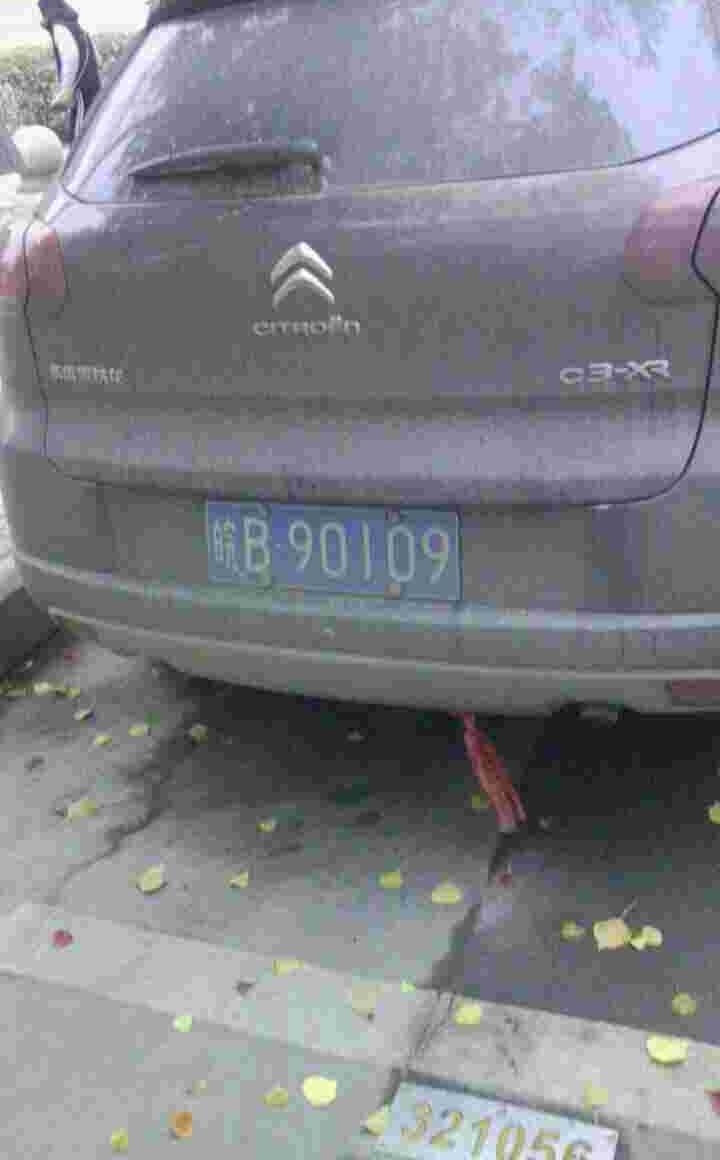license_plate: (211, 504, 453, 588)
